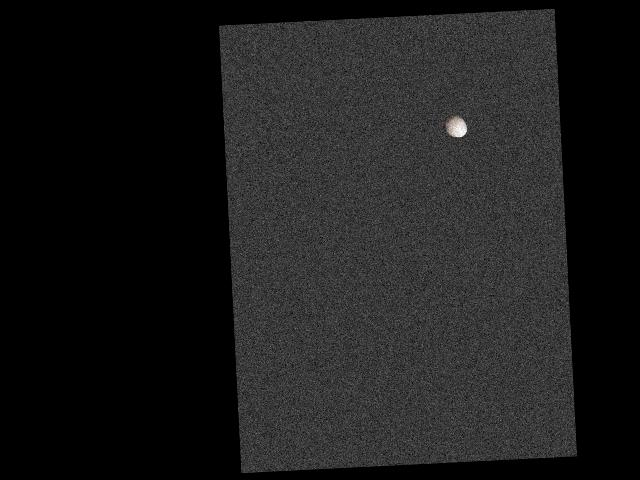egg: (443, 113, 467, 137)
